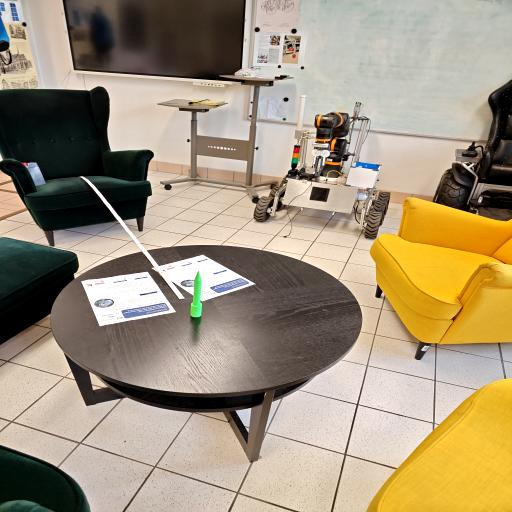Probe-Detection: (191, 271, 202, 317)
